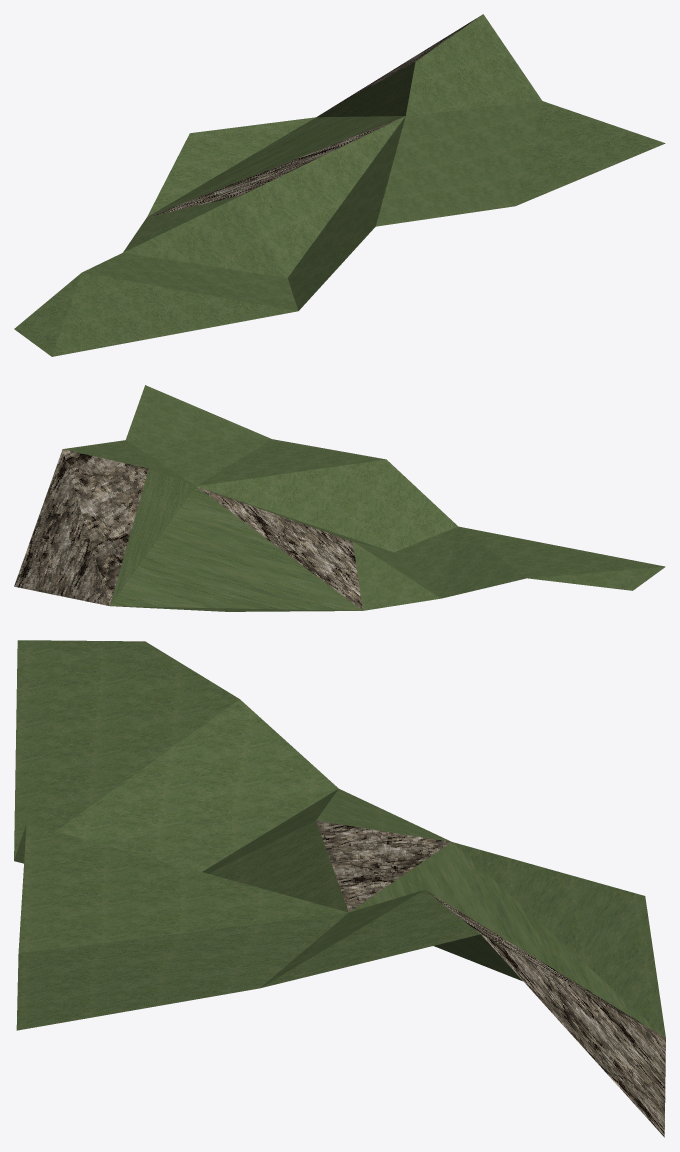
Rendered from LODa_carisle_mid_landmass_00_07.fbx.
3 views of the same model, one above another, from view 1: azimuth 30°, elevation 25°; view 2: azimuth 150°, elevation 25°; view 3: azimuth 270°, elevation 25° (orthographic). The views are drawn at different scales.
Parts seen in each view (by area): view 1: LODa_carisle_mid_landmass_00_07; view 2: LODa_carisle_mid_landmass_00_07; view 3: LODa_carisle_mid_landmass_00_07.
Boxes of the visible parts, bbox=[...] form: LODa_carisle_mid_landmass_00_07: bbox=[14, 14, 665, 356]; LODa_carisle_mid_landmass_00_07: bbox=[14, 385, 665, 611]; LODa_carisle_mid_landmass_00_07: bbox=[14, 640, 665, 1137].
Bounding box in the file's own units: 61.48 × 34.1 × 11.66.
